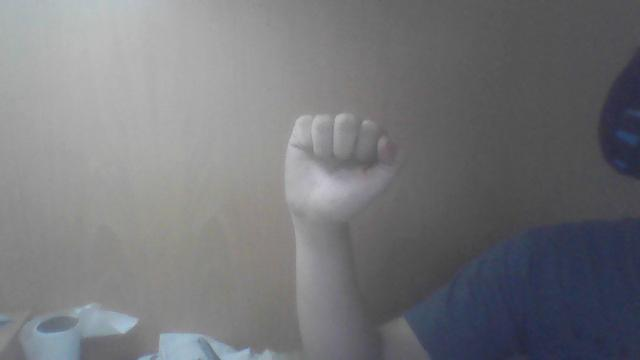forward: (283, 110, 402, 226)
